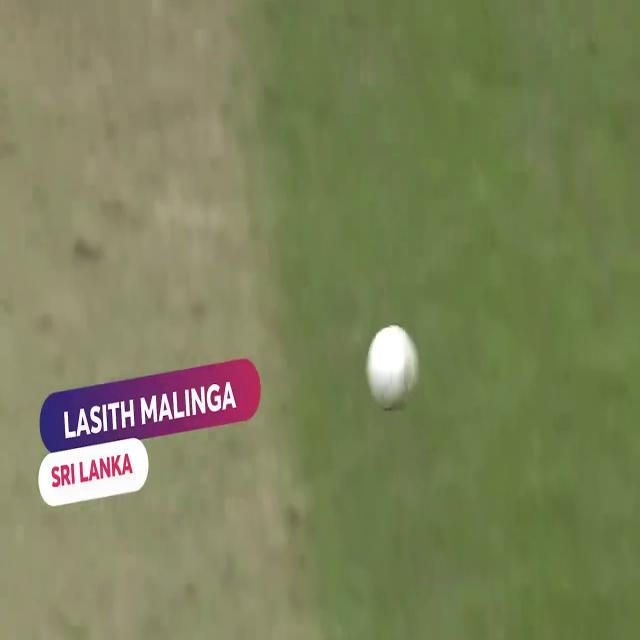ball: (359, 319, 425, 429)
